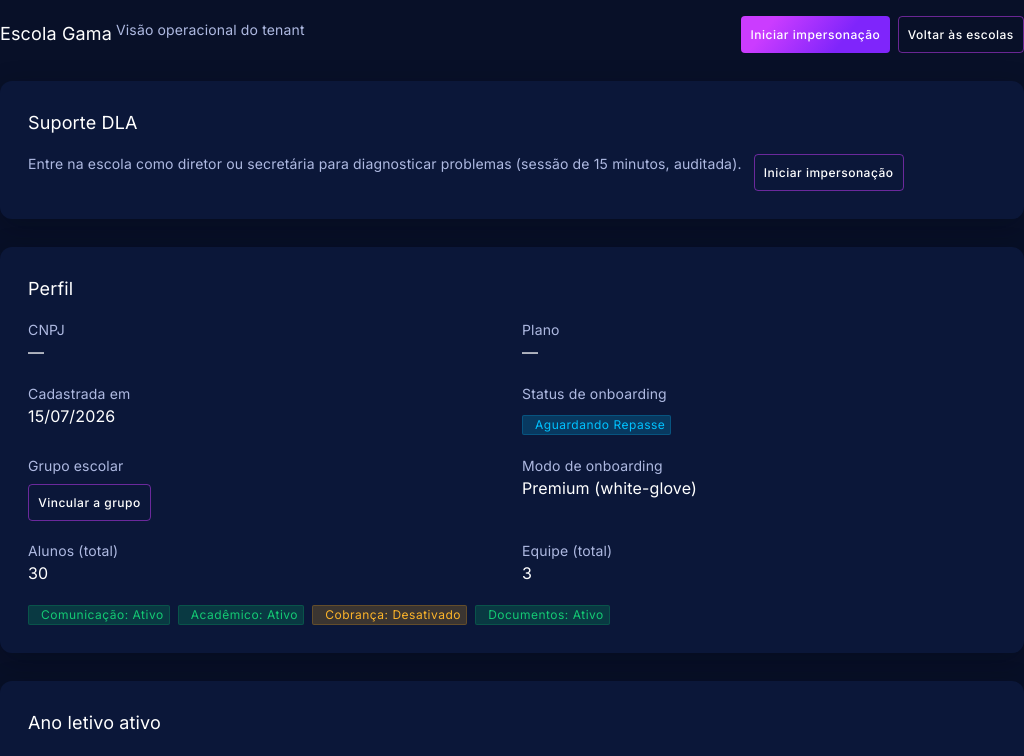
it: SchoolDetail › starts impersonation from the school detail dialog
Click the button with test id "impersonation-header-action": (815, 34) [741,16,890,53]
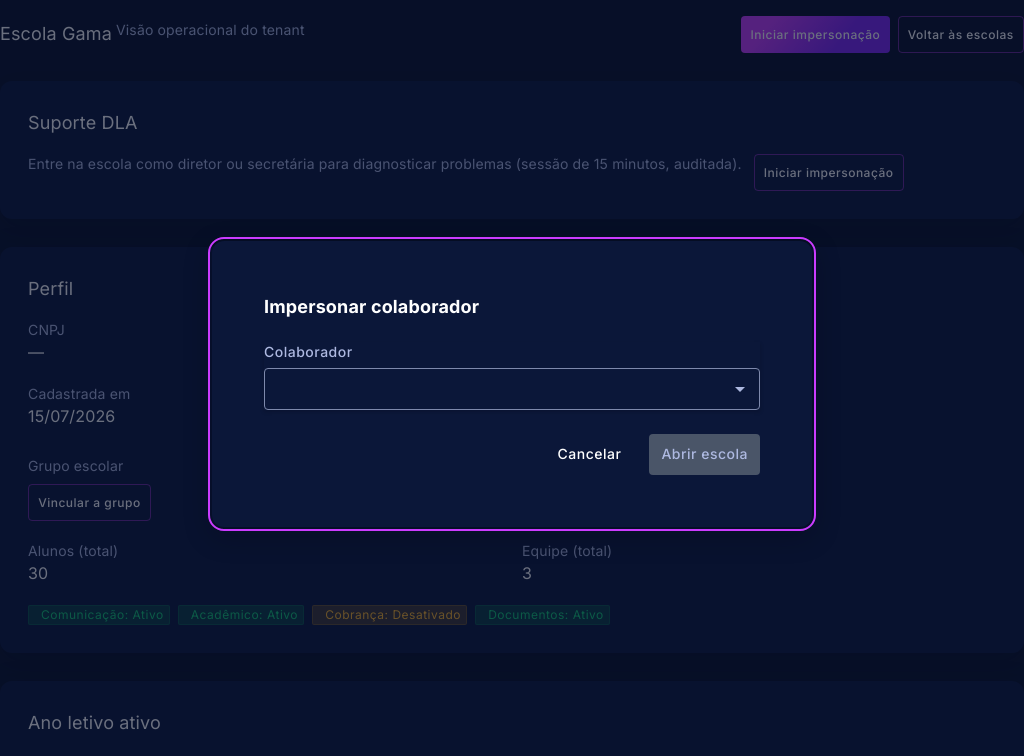
Click the dropdown: (512, 389) [275,379,749,399]
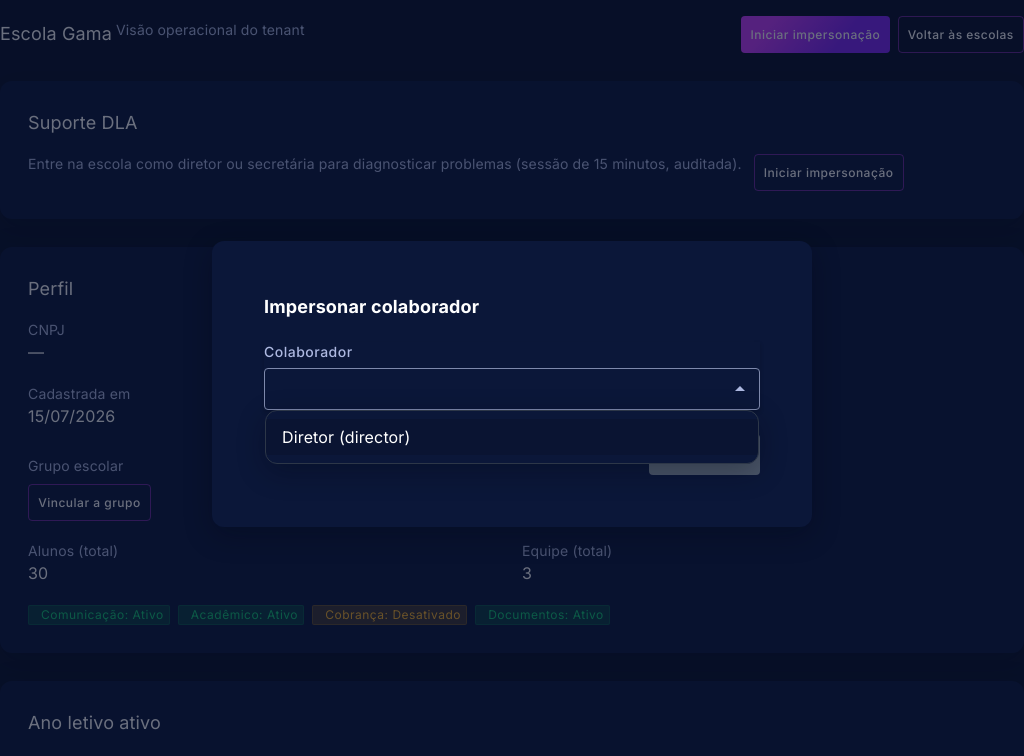
Click the option "Diretor (director)": (308, 437) [266,419,758,455]
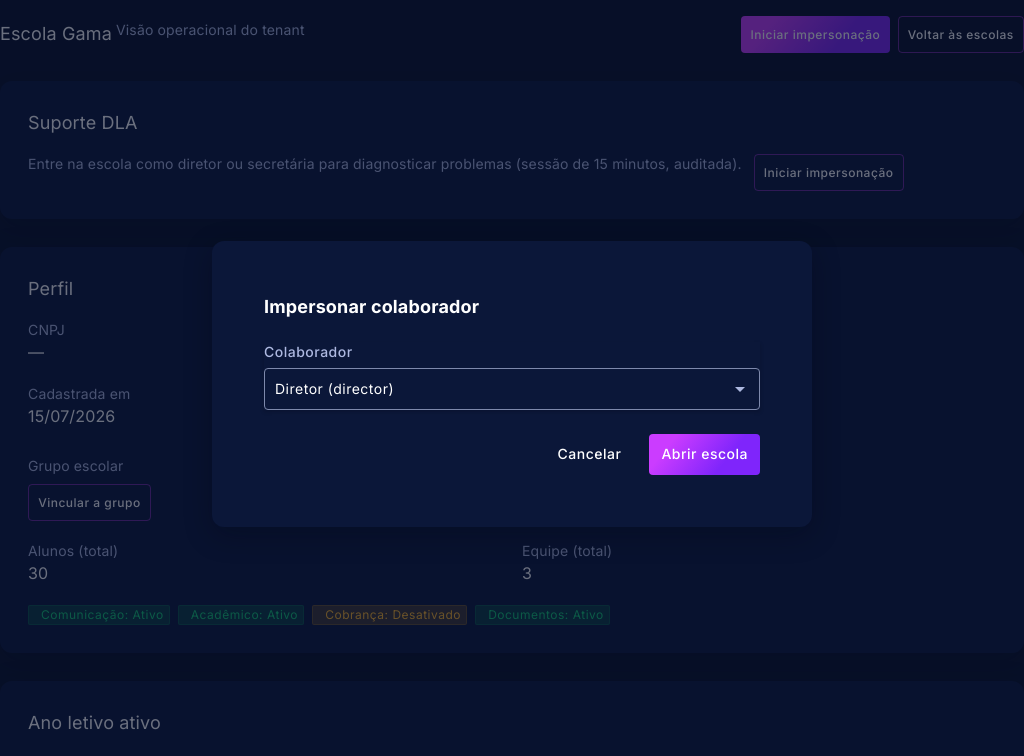
expect the button "Abrir escola" is enabled: met
Click the button "Abrir escola": (705, 454) [649,434,760,474]
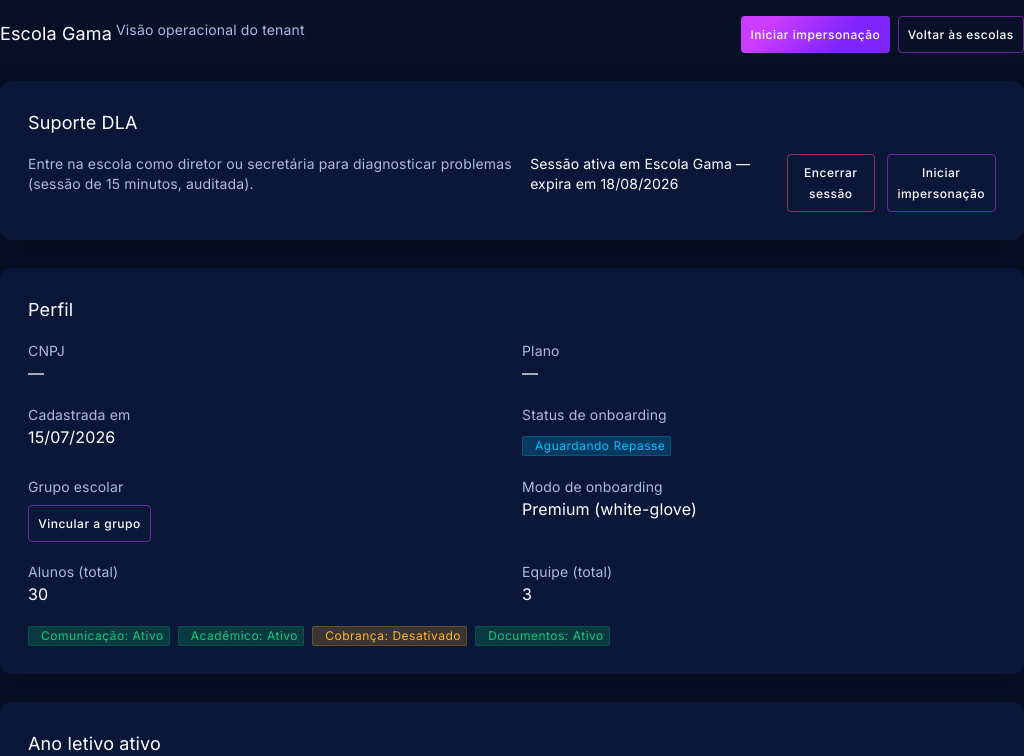
expect the element with test id "active-impersonation" is shown: met, box [530,154,874,212]
